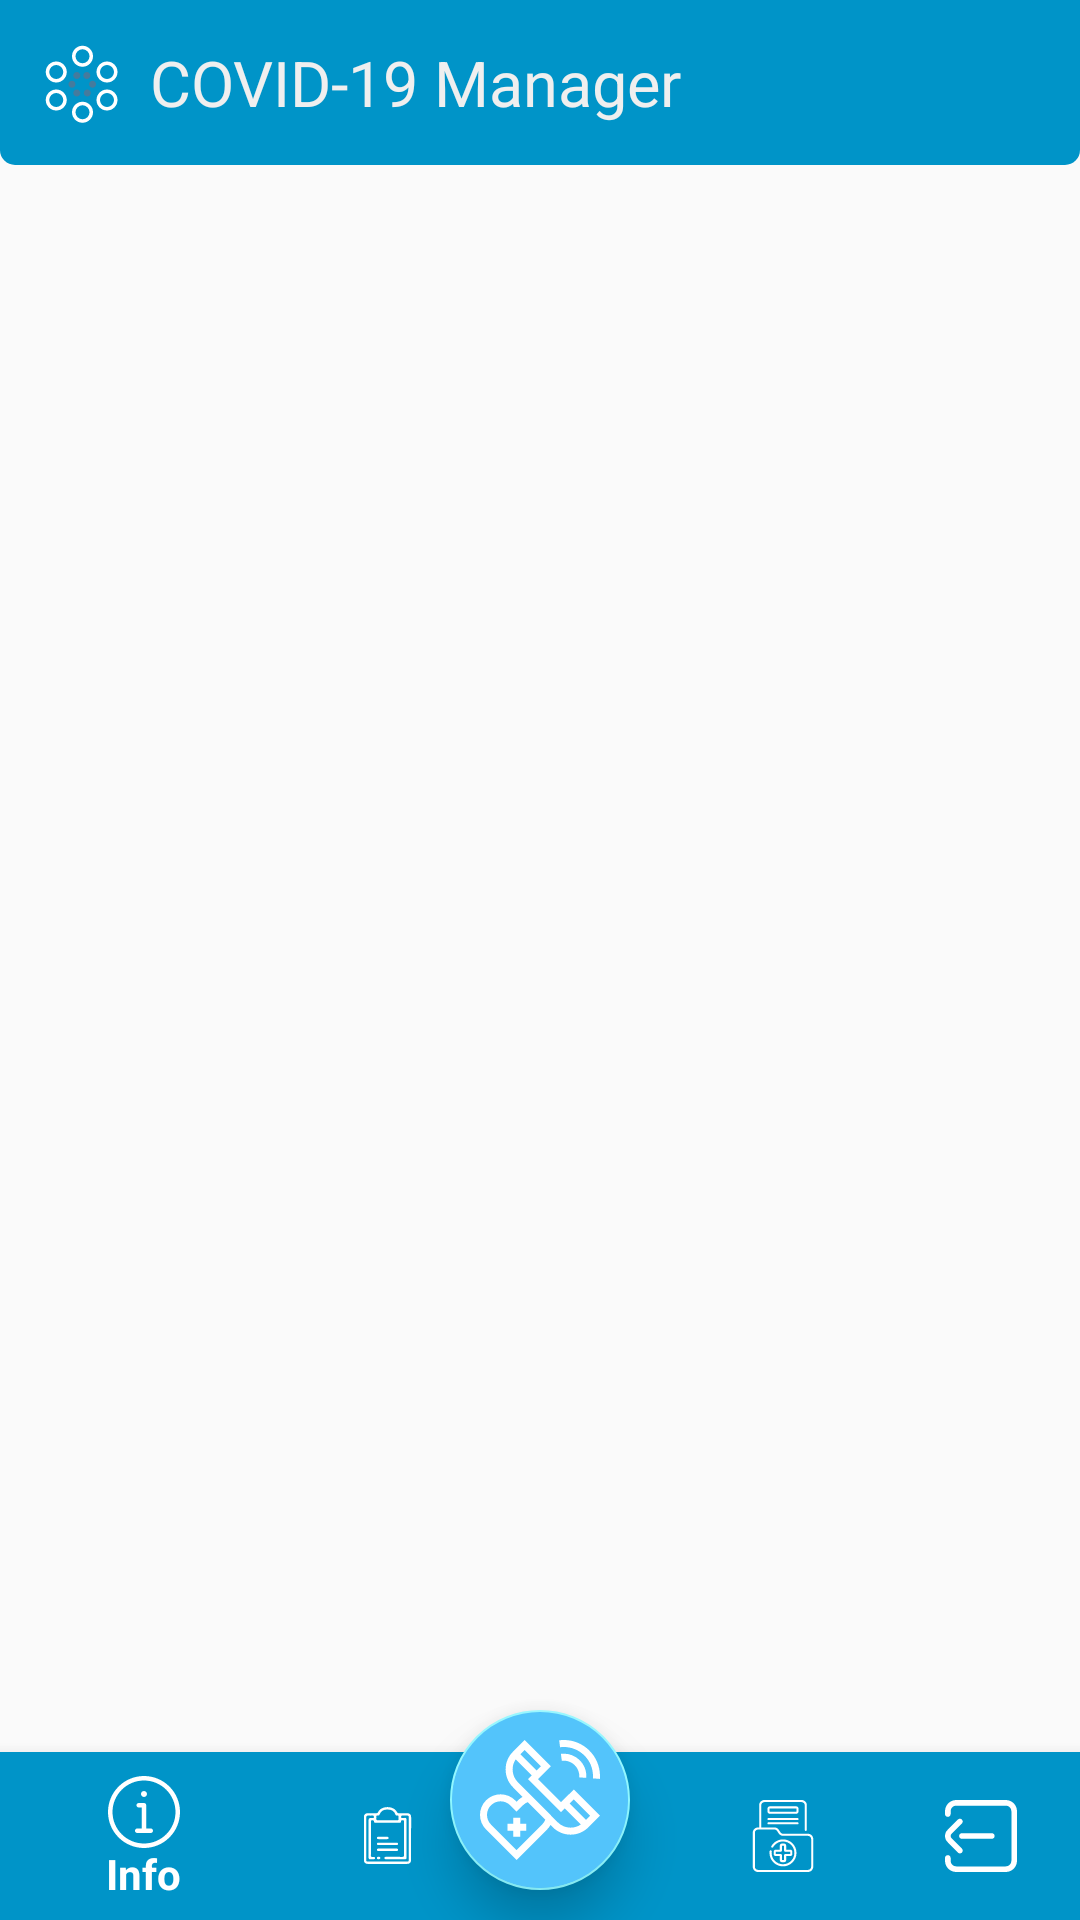

Screen size 1080w x 1920h. Icon name, then its center in pixels as (x,y):
emergency call: (540,1800)
